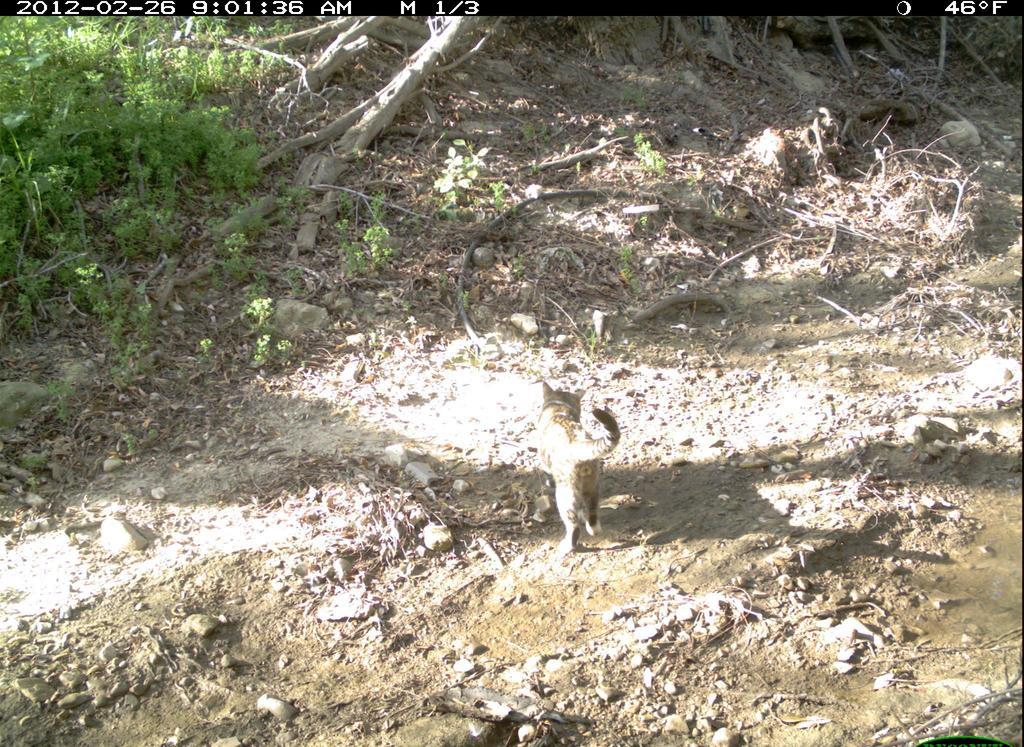cat: (530, 378, 624, 557)
